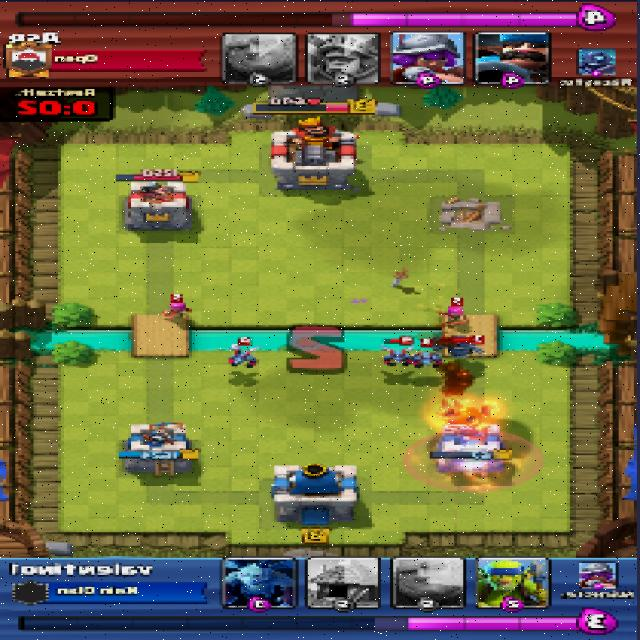Enemy-Archer: (162, 299, 194, 319), (440, 303, 468, 325)
Enemy-Fireball: (404, 431, 546, 490)
Enemy-MiniPEKKA: (437, 337, 483, 358)
Enemy-Minion: (227, 346, 259, 367), (412, 353, 444, 368), (386, 349, 412, 367)
